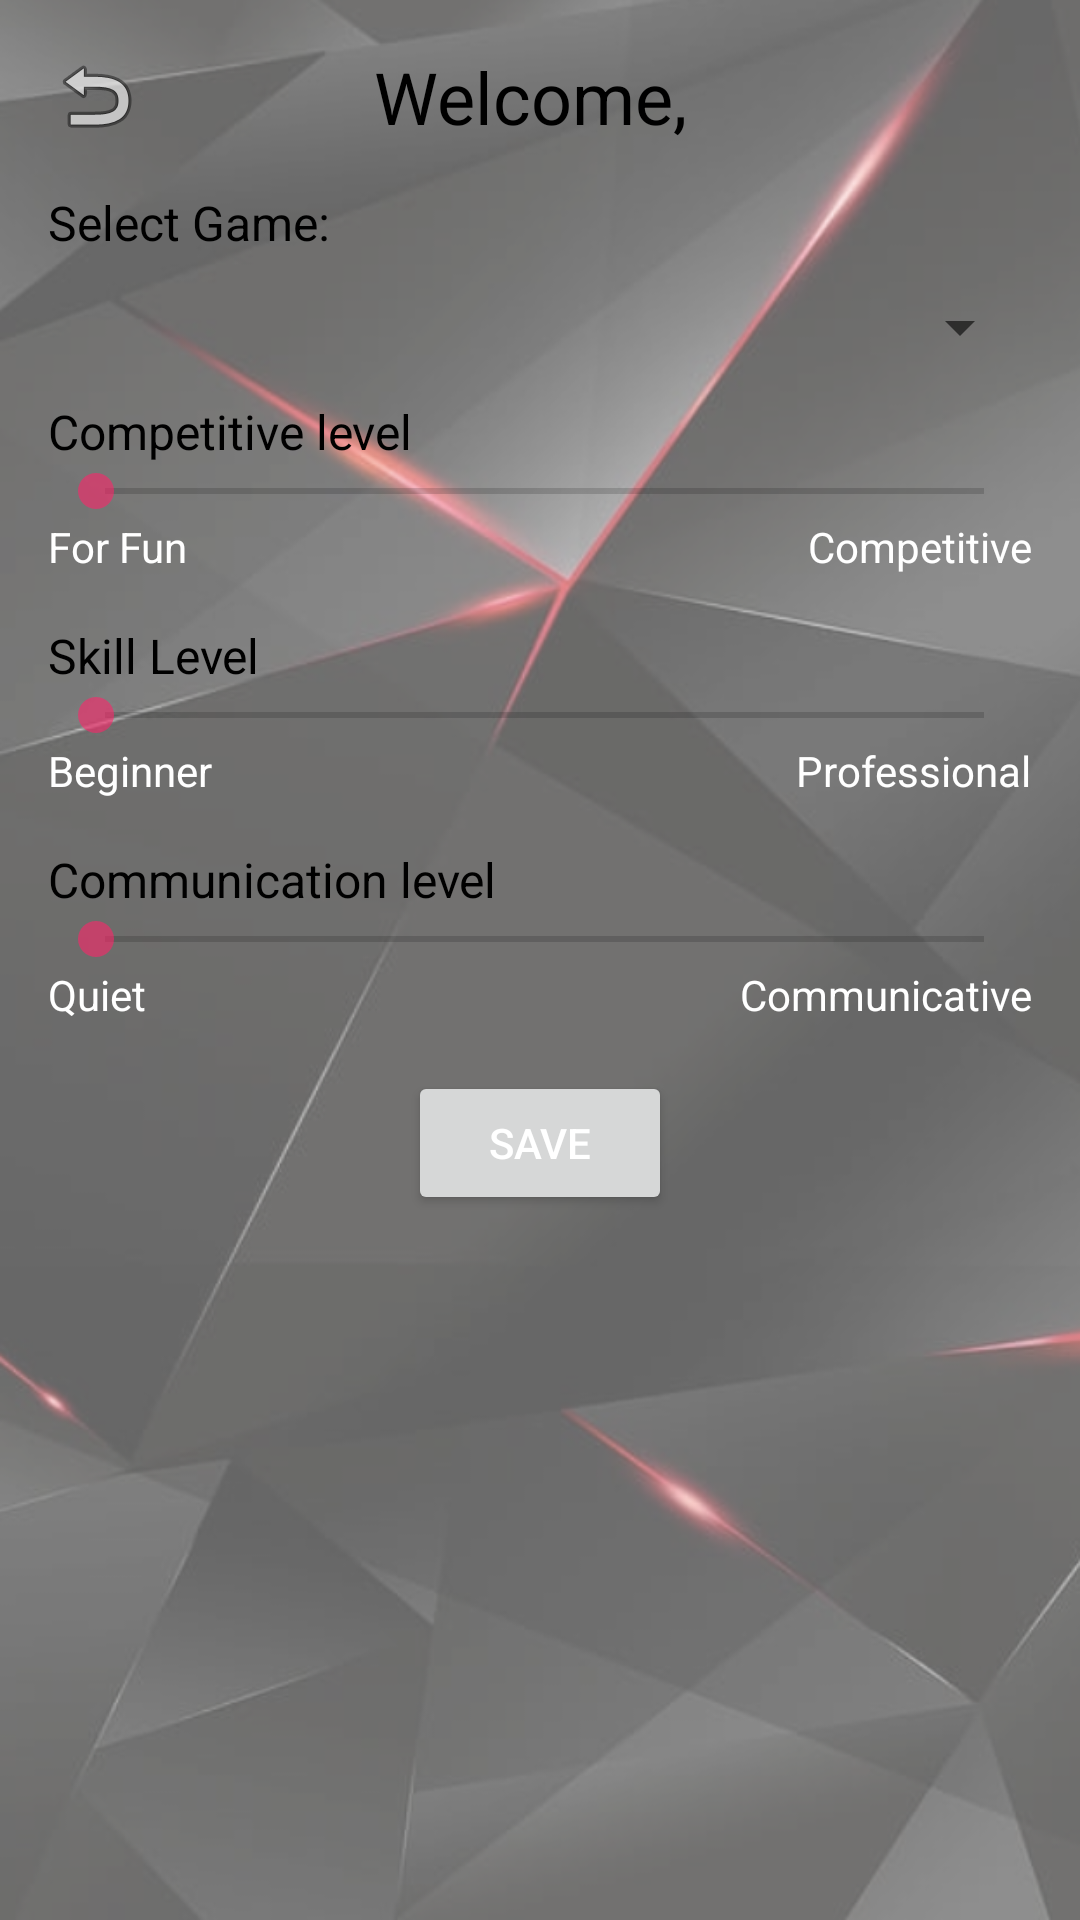

Where icons sit on this 1080 × 1920 app screen, as (x1, y1, x2, y2):
Back button: (48, 55, 144, 128)
